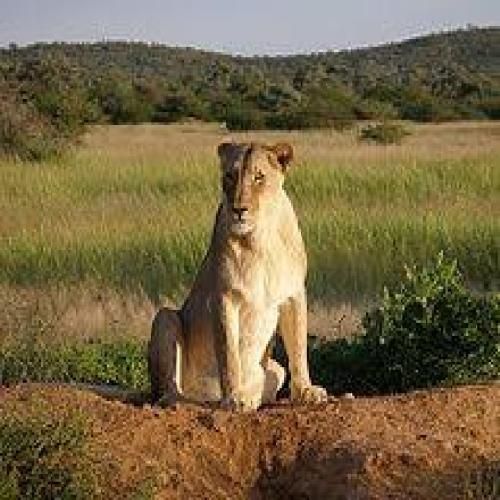lion-endangered: (144, 142, 334, 418)
